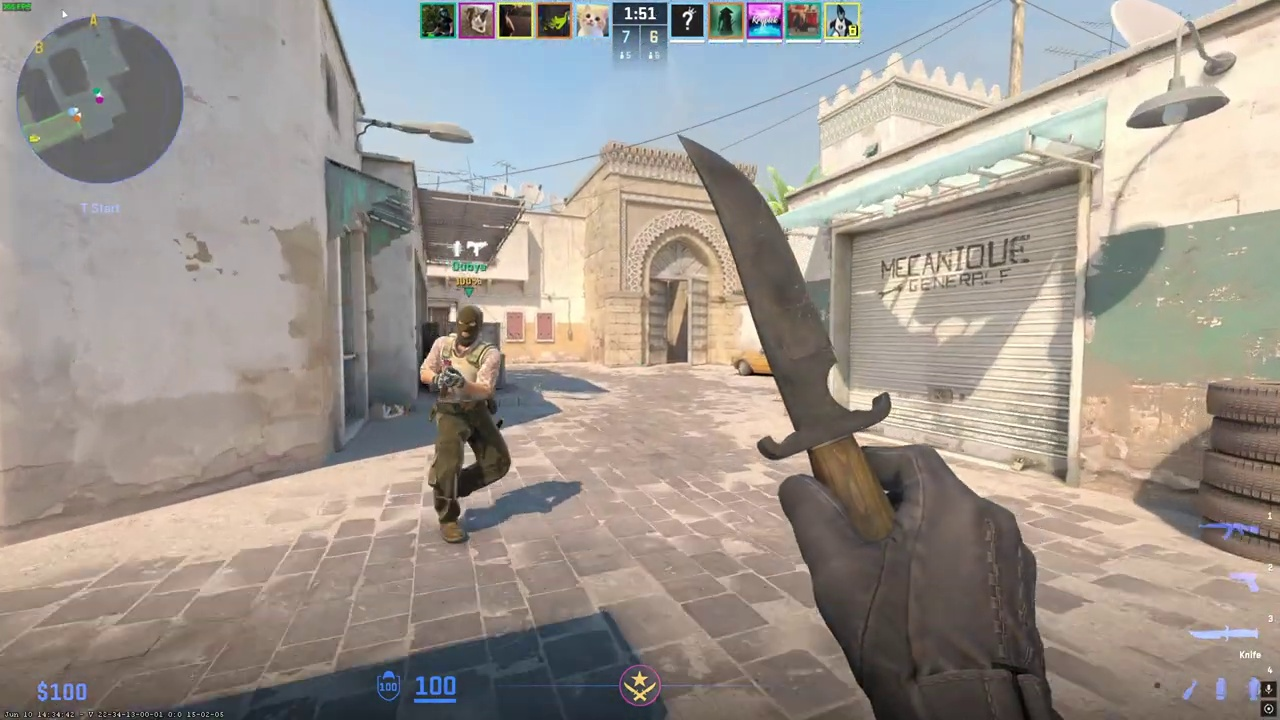Terrorist: (420, 304, 511, 543)
